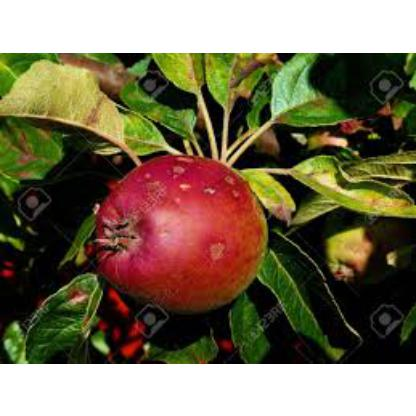apple: (93, 158, 272, 312)
